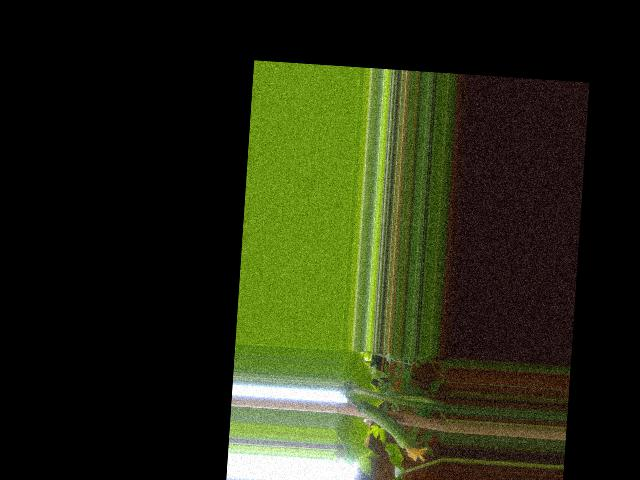cucumber: (354, 401, 431, 463)
